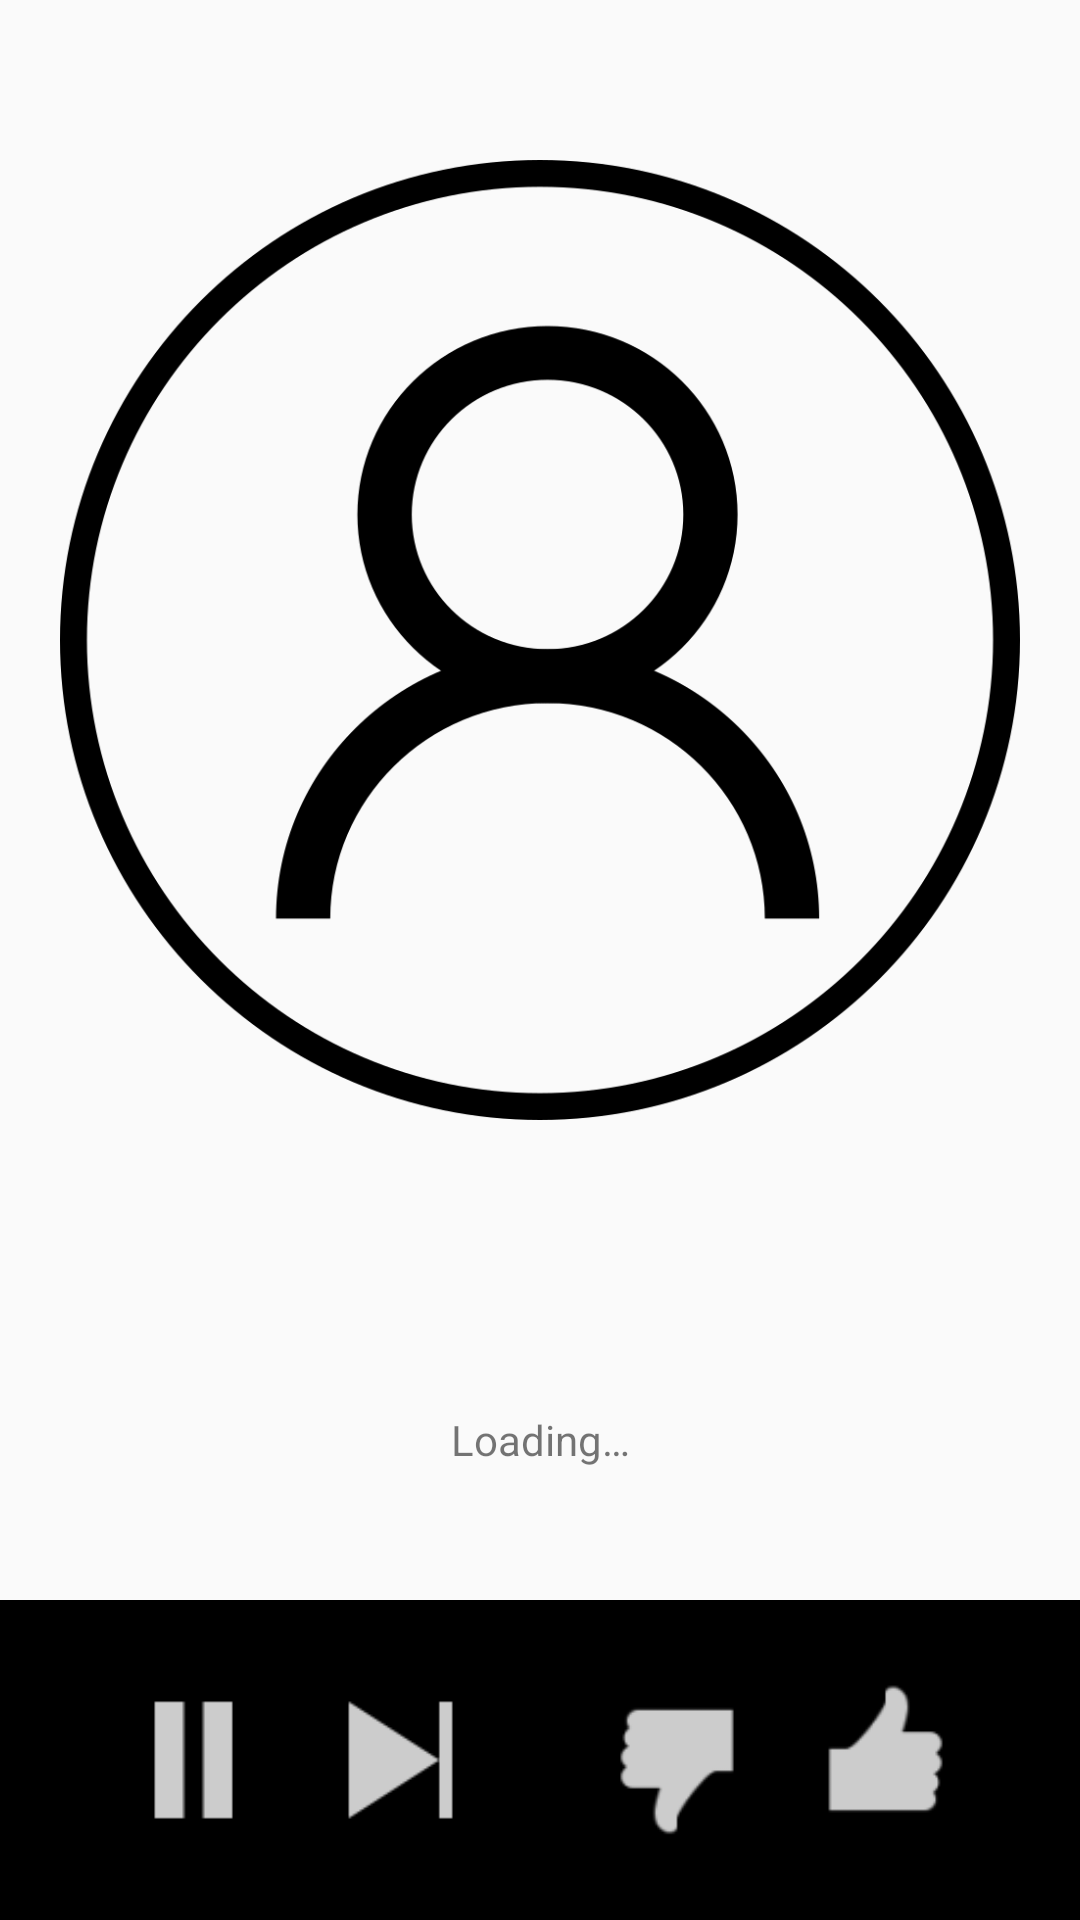

Icons on this 1080*1920 Android screen, each with the point to tap as (x=x, y=y):
dislike: (x=677, y=1771)
like: (x=885, y=1748)
pause: (x=193, y=1760)
skip: (x=400, y=1760)
